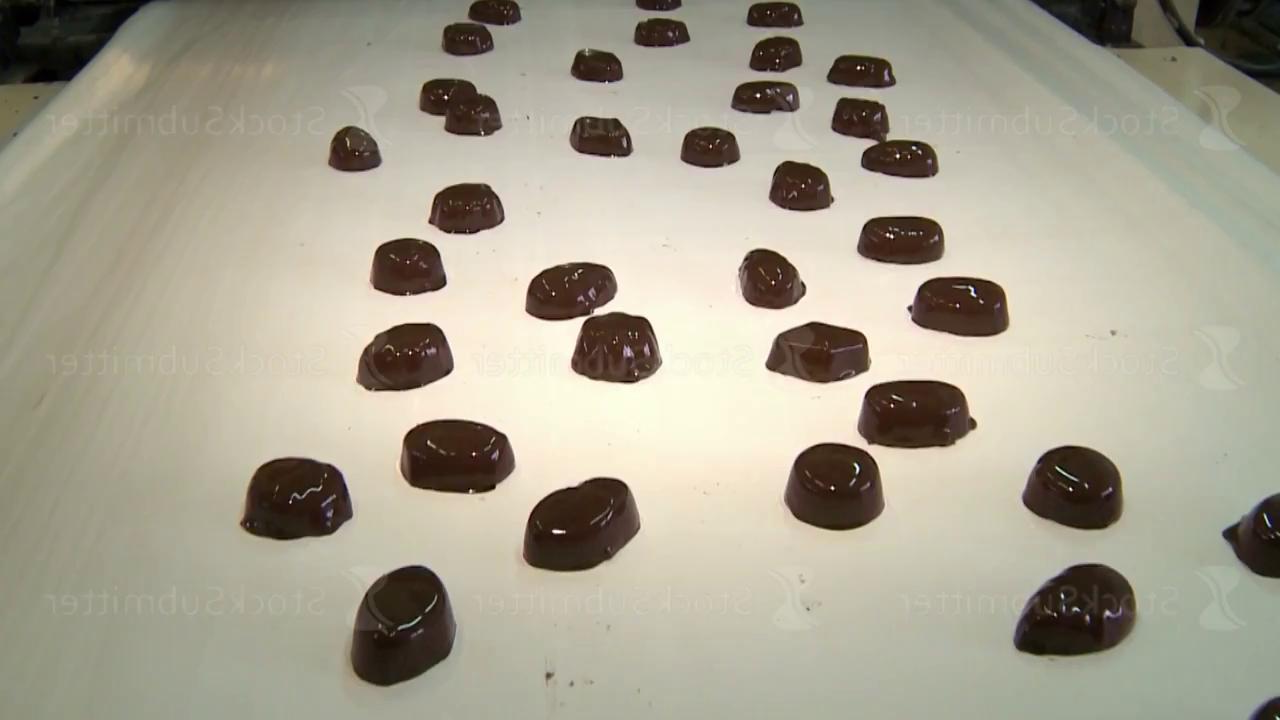chocolate: (351, 564, 457, 686), (1014, 562, 1137, 656), (523, 476, 641, 571), (241, 456, 353, 540), (784, 442, 885, 530), (401, 418, 515, 493), (1023, 444, 1123, 529), (858, 379, 977, 448), (357, 322, 454, 391), (766, 321, 871, 383), (572, 312, 662, 383), (910, 276, 1009, 336), (526, 261, 618, 320), (1222, 492, 1280, 578), (370, 237, 446, 295), (858, 215, 944, 264), (739, 248, 806, 308), (429, 182, 505, 234), (770, 160, 833, 211), (862, 139, 939, 177), (570, 115, 633, 157), (444, 93, 502, 136), (681, 126, 740, 168), (832, 97, 890, 139), (329, 125, 381, 171), (732, 80, 800, 114), (828, 55, 896, 87), (420, 78, 476, 115), (750, 35, 802, 72), (571, 47, 623, 82), (442, 22, 494, 55), (635, 17, 690, 47), (747, 1, 804, 27), (469, 0, 522, 26)
